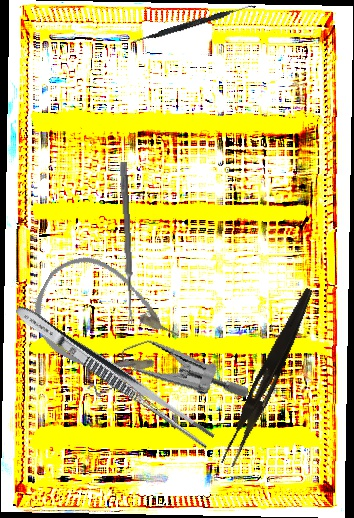Cannula: (18, 242, 193, 401)
Dressing Forceps: (10, 300, 218, 450), (219, 283, 317, 471)
Spatula Surgical: (132, 0, 256, 47)
Speculum: (77, 310, 251, 448)
Surgical Spoon: (118, 161, 136, 325)
